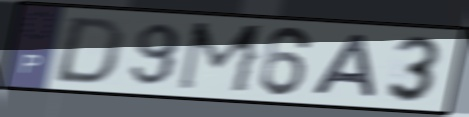3: (386, 33, 443, 105)
6: (257, 25, 312, 98)
9: (132, 21, 183, 88)
A: (306, 32, 380, 101)
D: (49, 14, 128, 86)
M: (173, 20, 269, 97)
